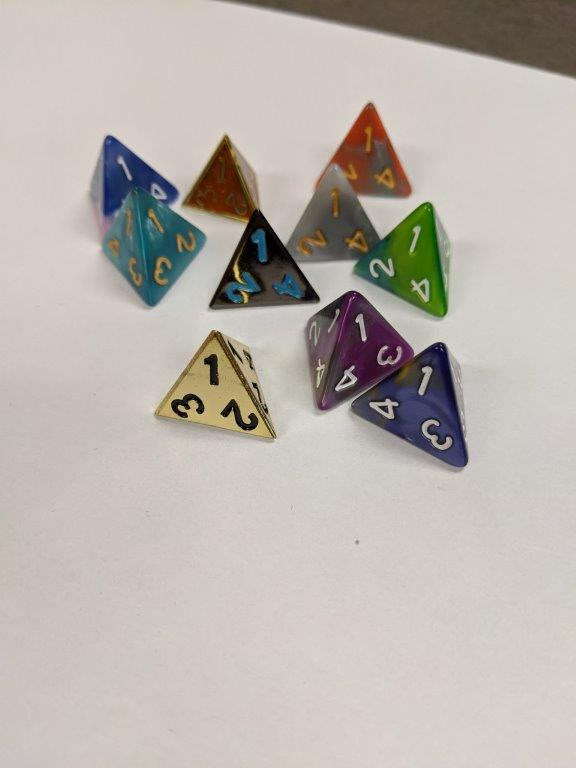d4-1: (356, 338, 473, 470), (147, 330, 281, 444), (302, 290, 417, 419), (97, 184, 205, 310), (352, 198, 456, 319), (314, 97, 420, 202), (204, 212, 320, 306), (280, 163, 381, 265), (83, 130, 181, 225), (179, 131, 259, 220)
